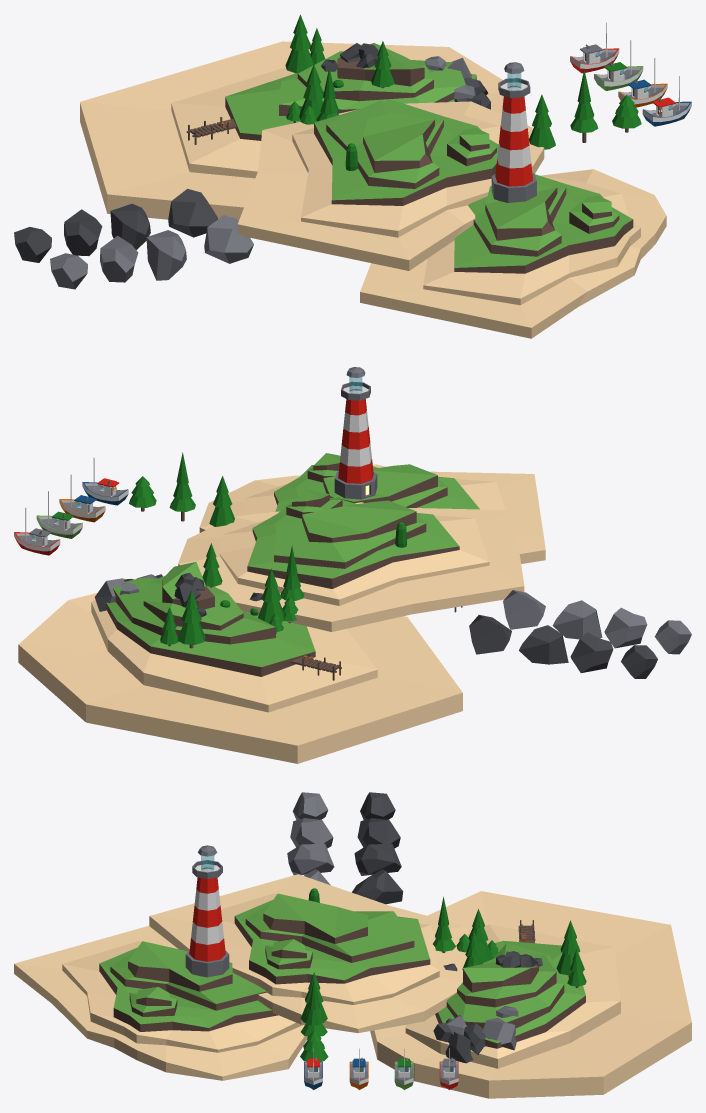
Rendered from ISLAND2.fbx.
The picture shows the model from 3 angles, top to bottom: view 1: azimuth 30°, elevation 25°; view 2: azimuth 150°, elevation 25°; view 3: azimuth 270°, elevation 25°; orthographic projection. The views are drawn at different scales.
Visible parts, largest first — view 1: ILE2.001, ile2, ILE2, PHARE ROUGE, caillou1.002, caillou1, caillou2, caillou3, caillou2.004, caillou3.005, caillou4, caillou4.006 (+12 smaller); view 2: ile2, ILE2.001, ILE2, PHARE ROUGE, caillou2.004, caillou2, caillou1, caillou1.002, caillou3, caillou3.005, sapin1.002, caillou4 (+10 smaller); view 3: ile2, ILE2.001, ILE2, PHARE ROUGE, caillou2.004, caillou2, caillou1.002, caillou3.005, caillou3, caillou4.006, caillou4, caillou3.001 (+10 smaller).
Boxes of the visible parts, x1,y1,x2,y2 form: ILE2.001: (237, 99, 544, 270); ile2: (80, 41, 503, 220); ILE2: (360, 169, 666, 338); PHARE ROUGE: (491, 62, 536, 202); caillou1.002: (168, 188, 217, 237); caillou1: (204, 215, 253, 263); caillou2: (146, 230, 186, 280); caillou3: (100, 235, 138, 282); caillou2.004: (110, 203, 150, 249); caillou3.005: (64, 209, 102, 255); caillou4: (50, 253, 87, 289); caillou4.006: (14, 227, 51, 262); ile2: (18, 562, 462, 763); ILE2.001: (178, 489, 524, 631); ILE2: (199, 453, 545, 563); PHARE ROUGE: (334, 367, 377, 499); caillou2.004: (519, 625, 568, 664); caillou2: (552, 600, 602, 639); caillou1: (503, 590, 545, 629); caillou1.002: (469, 615, 511, 654); caillou3: (604, 607, 647, 648); caillou3.005: (570, 632, 613, 672); sapin1.002: (177, 589, 205, 648); caillou4: (654, 620, 691, 654); ile2: (370, 891, 691, 1098); ILE2.001: (149, 874, 467, 1032); ILE2: (14, 926, 307, 1080); PHARE ROUGE: (185, 845, 229, 977); caillou2.004: (354, 843, 401, 875); caillou2: (287, 843, 334, 875); caillou1.002: (352, 869, 403, 904); caillou3.005: (357, 818, 400, 848); caillou3: (290, 818, 333, 848); caillou4.006: (360, 792, 395, 819); caillou4: (292, 792, 327, 820); caillou3.001: (482, 1017, 516, 1050).
Bounding box in the file's own units: 3085 × 890 × 3011.
